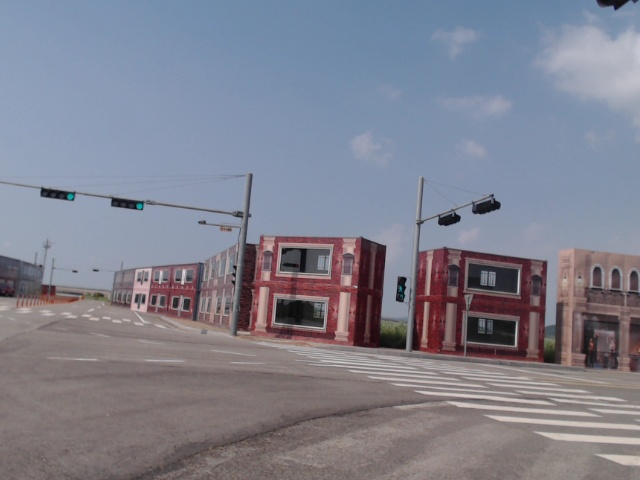straight_green_4: (39, 188, 76, 201), (111, 198, 145, 211)
